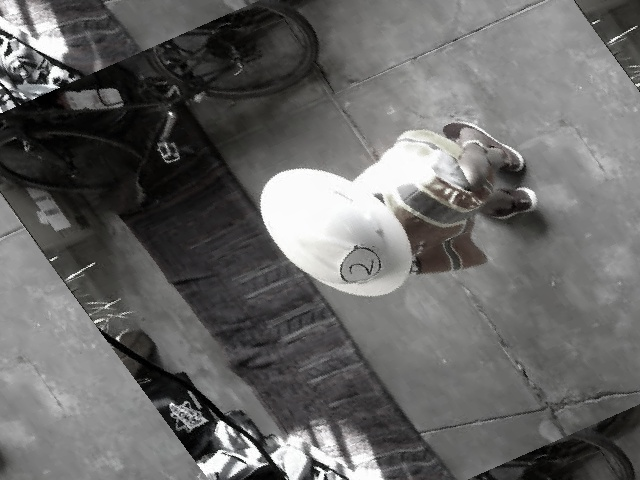two: (326, 241, 389, 288)
